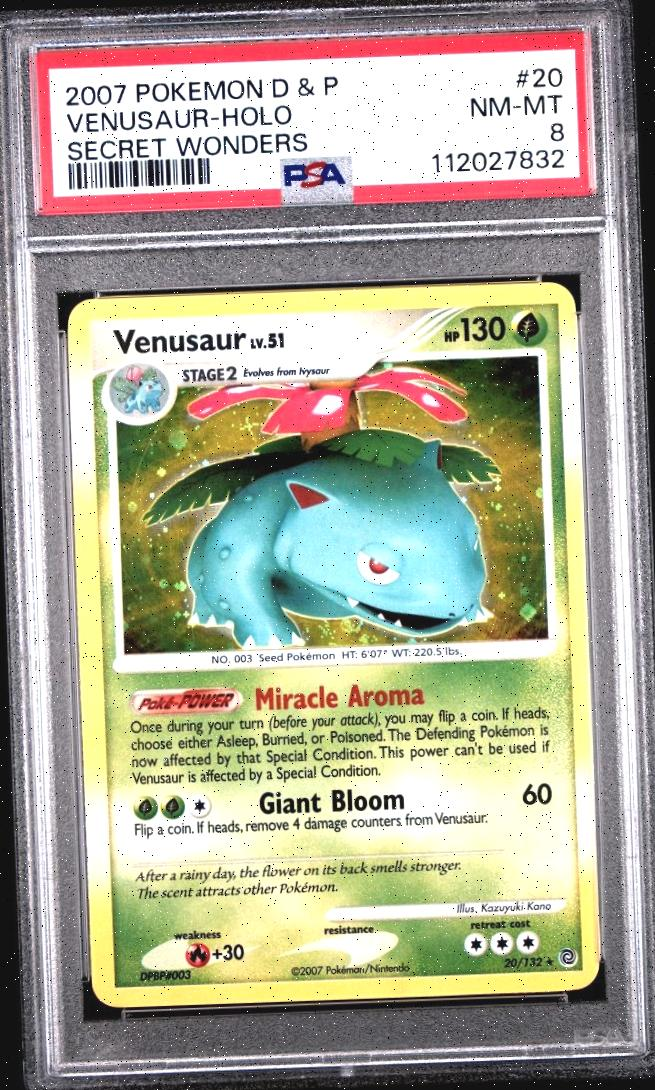card-2UtV: (66, 282, 599, 1008)
